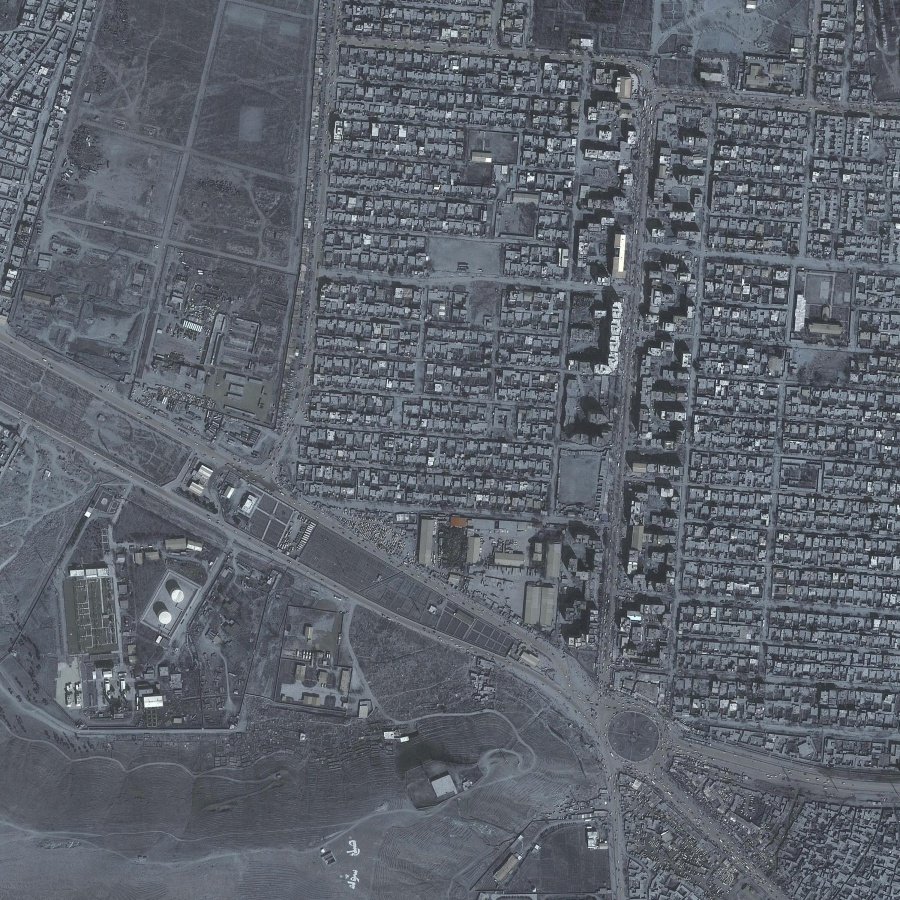PowerPlant: (65, 531, 208, 722)
